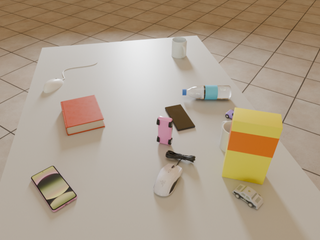book: (61, 95, 105, 135)
bottle: (182, 85, 231, 99)
box: (222, 108, 283, 184)
cup: (219, 121, 232, 152), (172, 37, 187, 58)
mouse: (153, 164, 183, 196), (44, 78, 63, 93)
phone: (31, 166, 77, 212), (165, 104, 195, 131)
toy_car: (232, 184, 263, 209), (157, 116, 173, 145), (225, 110, 234, 119)
